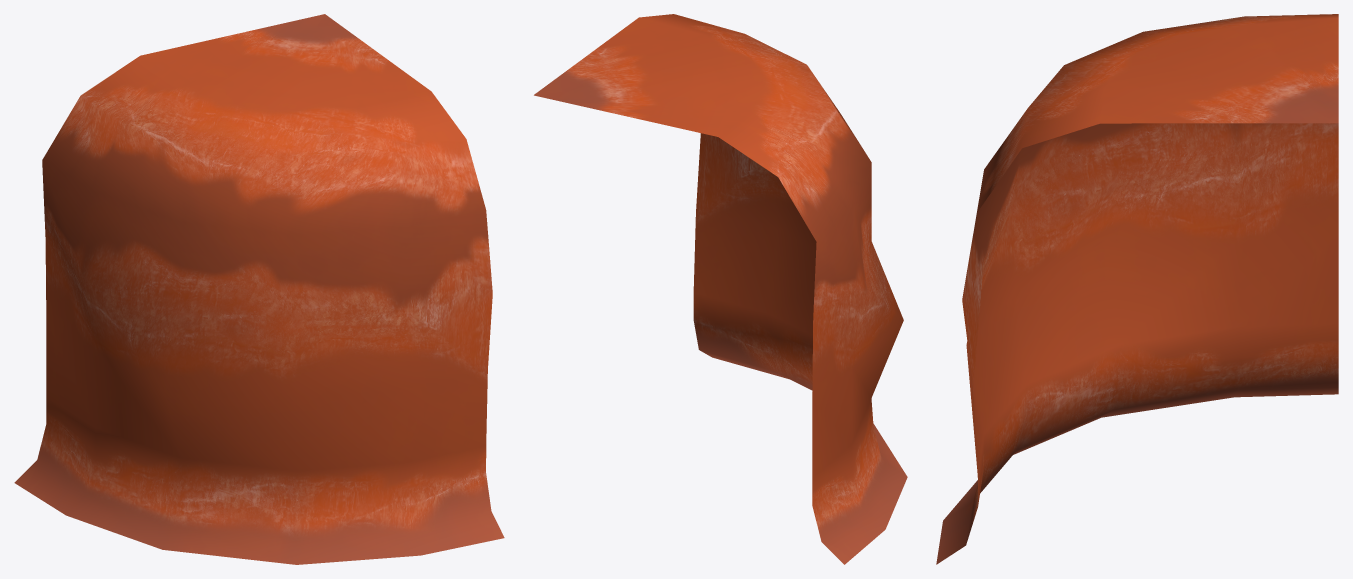
File: CantoParede1.fbx
The picture shows the model from 3 angles, left to right: view 1: azimuth 30°, elevation 25°; view 2: azimuth 150°, elevation 25°; view 3: azimuth 270°, elevation 25°; orthographic projection. The views are drawn at different scales.
Parts seen in each view (by area): view 1: CantoParede1; view 2: CantoParede1; view 3: CantoParede1.
Boxes of the visible parts, bbox=[...] form: CantoParede1: bbox=[14, 14, 504, 564]; CantoParede1: bbox=[534, 14, 907, 564]; CantoParede1: bbox=[936, 14, 1338, 564].
Size of the model in its own units: 3.62 by 4.41 by 3.61.
